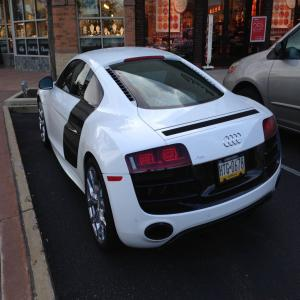Vehicle-registration-plate: (219, 158, 250, 186)
